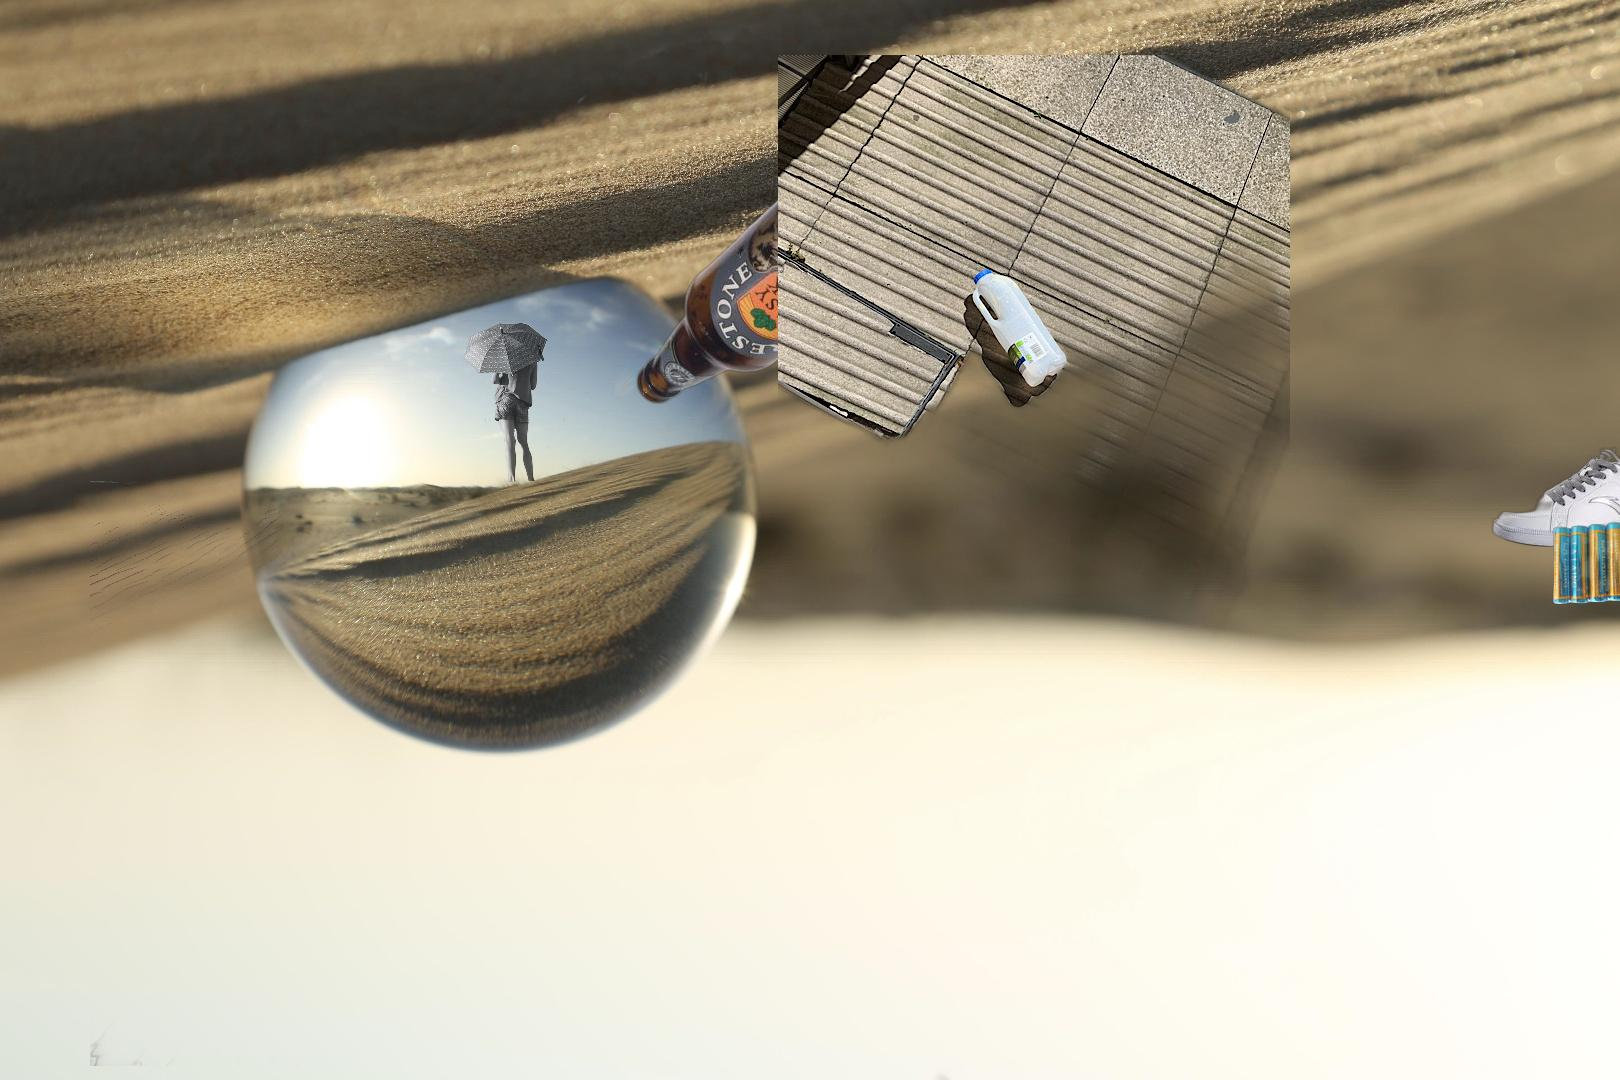battery: (1550, 518, 1620, 607)
clothes: (708, 1063, 1217, 1080)
glass: (632, 125, 945, 407)
plastic-bottles: (777, 55, 1290, 738)
shoes: (1489, 446, 1620, 548)
